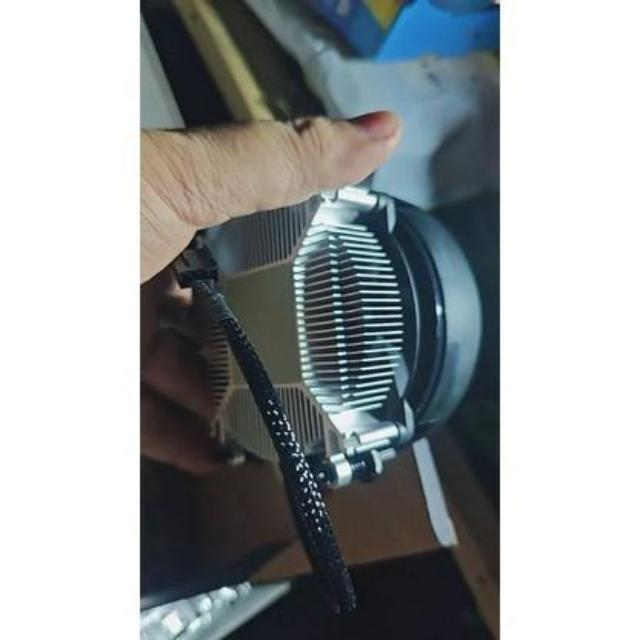CPU_Fan: (187, 151, 481, 491)
